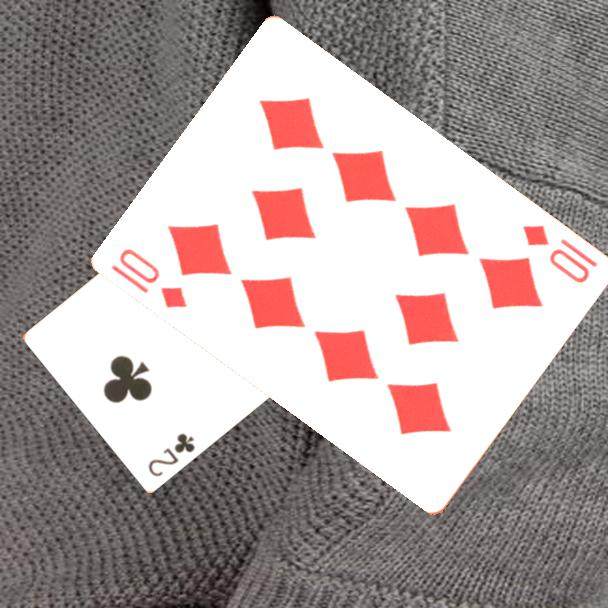c02: (144, 429, 198, 479)
d10: (108, 244, 191, 311), (519, 220, 594, 287)
